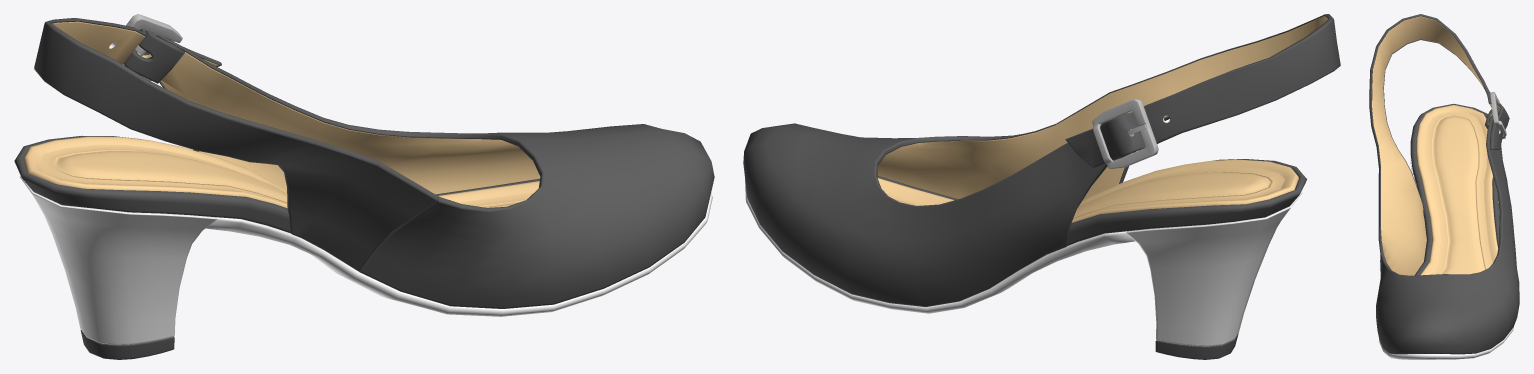
File: sandal.glb
3 views of the same model, side by side, from view 1: azimuth 30°, elevation 25°; view 2: azimuth 150°, elevation 25°; view 3: azimuth 270°, elevation 25° (orthographic). The views are drawn at different scales.
Visible parts, largest first — view 1: Outer_part_2, Outer_part, Upper_part, Inner_part_Whole, Upper_part_2, Lower_part_2, Base, Lower_part, Body_2; view 2: Outer_part_2, Inner_part_Whole, Upper_part, Outer_part, Upper_part_2, Lower_part_2, Base, Body_2, Lower_part; view 3: Outer_part_2, Upper_part_2, Inner_part_Whole, Outer_part, Lower_part_2, Base, Body_2.
Part boxes in pixels (bbox=[...]): Outer_part_2: bbox=[123, 31, 714, 308]; Outer_part: bbox=[34, 18, 439, 271]; Upper_part: bbox=[20, 176, 216, 344]; Inner_part_Whole: bbox=[52, 21, 540, 194]; Upper_part_2: bbox=[24, 136, 539, 208]; Lower_part_2: bbox=[14, 136, 539, 271]; Base: bbox=[206, 193, 712, 316]; Lower_part: bbox=[80, 330, 174, 359]; Body_2: bbox=[123, 14, 182, 81]; Outer_part_2: bbox=[743, 120, 1135, 306]; Inner_part_Whole: bbox=[877, 16, 1327, 200]; Upper_part: bbox=[1126, 192, 1302, 346]; Outer_part: bbox=[1056, 14, 1340, 183]; Upper_part_2: bbox=[877, 159, 1298, 222]; Lower_part_2: bbox=[877, 159, 1306, 245]; Base: bbox=[745, 179, 1134, 313]; Body_2: bbox=[1092, 98, 1158, 168]; Lower_part: bbox=[1155, 333, 1238, 359]; Outer_part_2: bbox=[1376, 106, 1519, 354]; Upper_part_2: bbox=[1416, 105, 1498, 275]; Inner_part_Whole: bbox=[1372, 16, 1500, 275]; Outer_part: bbox=[1369, 14, 1509, 226]; Lower_part_2: bbox=[1410, 104, 1499, 275]; Base: bbox=[1379, 177, 1513, 359]; Body_2: bbox=[1490, 92, 1506, 139].
Size of the model in its own units: 0.2055 by 0.1083 by 0.0743.
